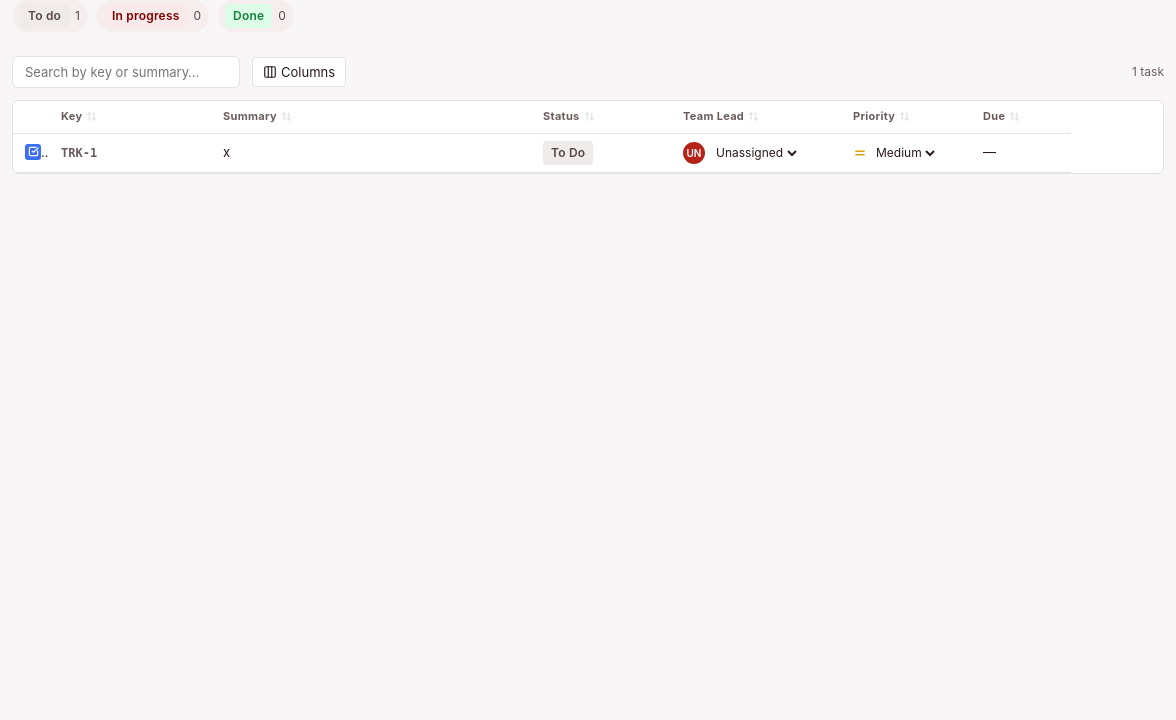
Test: IssueTable › lists every labelled column in the Columns menu, including field-name columns
This screenshot has width=1176, height=720.
Click the button "Columns" at (299, 72), box x1=252 y1=57 x2=346 y2=87
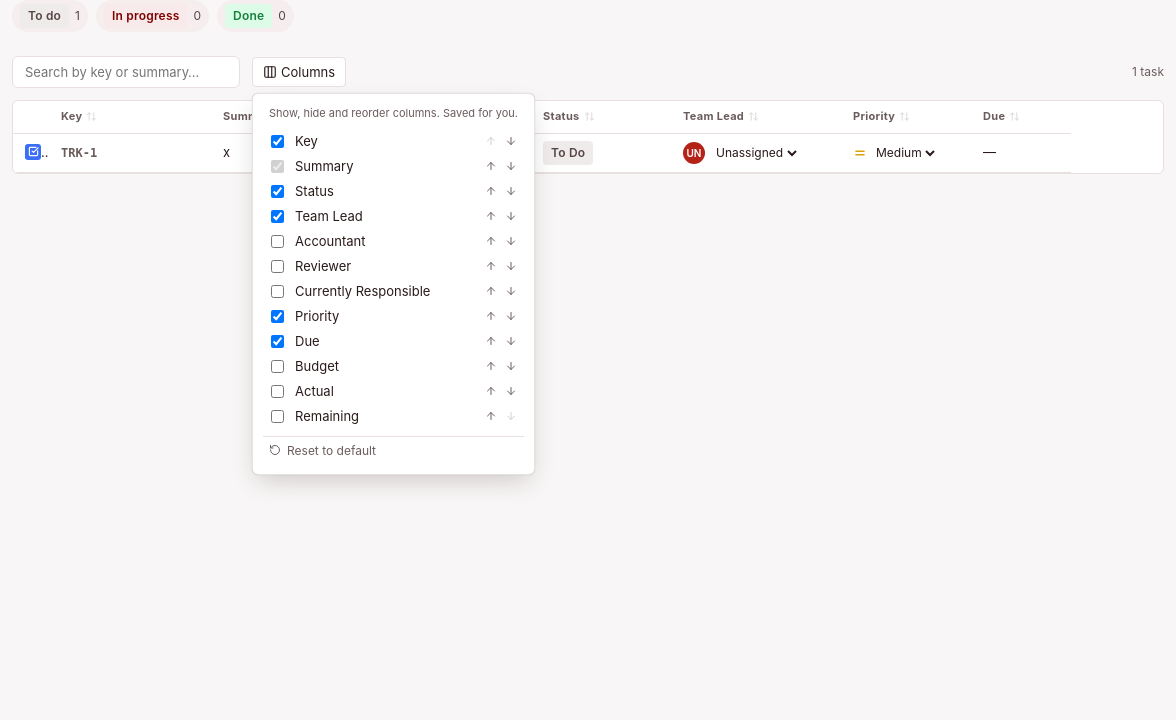
Now the checkbox labelled "Key" is shown, box x1=271 y1=135 x2=284 y2=148
Now the checkbox labelled "Summary" is shown, box x1=271 y1=160 x2=284 y2=173
Now the checkbox labelled "Status" is shown, box x1=271 y1=185 x2=284 y2=198
